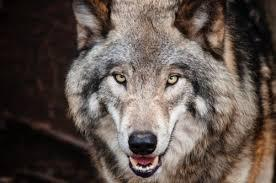Wolf: (64, 1, 276, 183)
